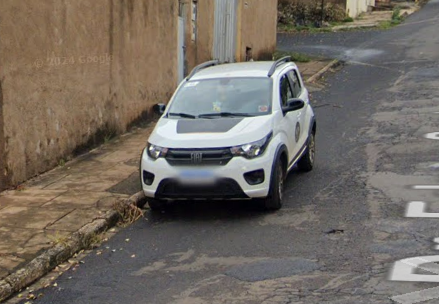car: (135, 51, 327, 216)
